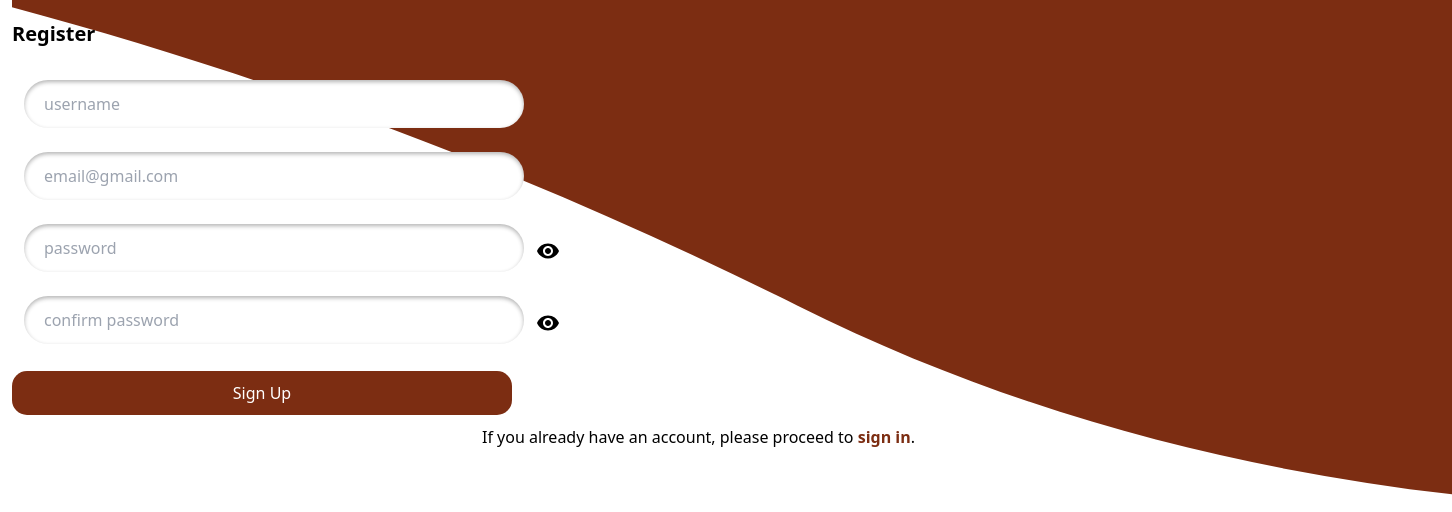
Test: Signup page › can render success message if receive success response from backend
The width and height of the screenshot is (1452, 512).
Note: type in valid data and click submit button
Type "ji" into the field with placeholder "username".
click(274, 104); type("ji")  # box [24,80,524,128]
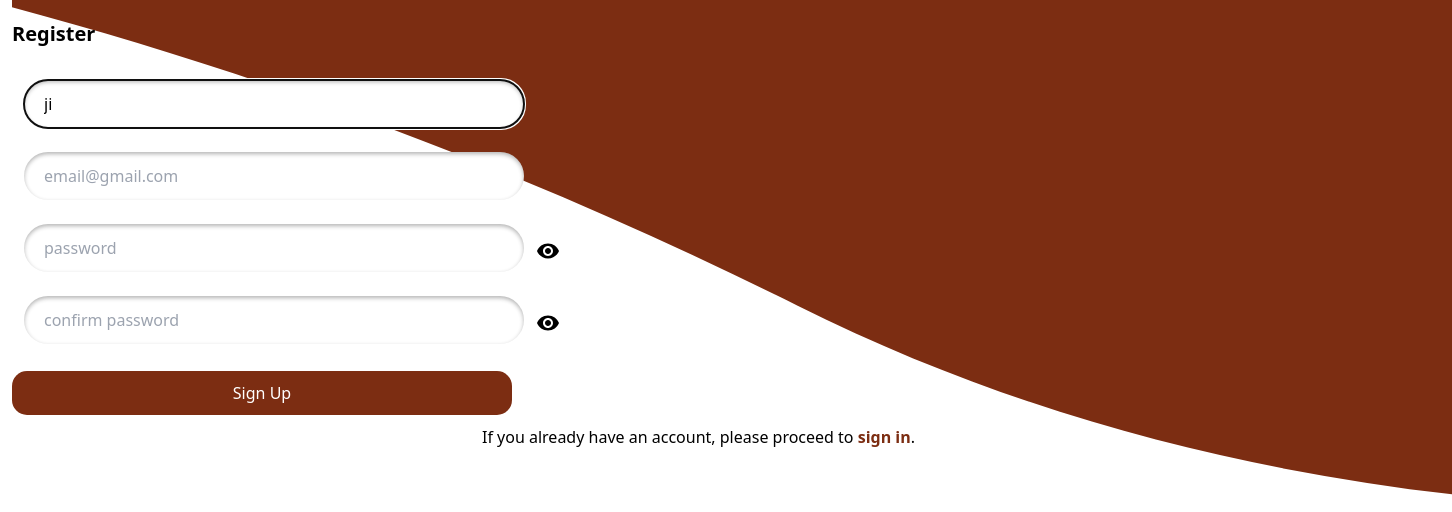
Type "ji@gmail.com" into the field with placeholder "email@gmail.com".
click(274, 176); type("ji@gmail.com")  # box [24,152,524,200]
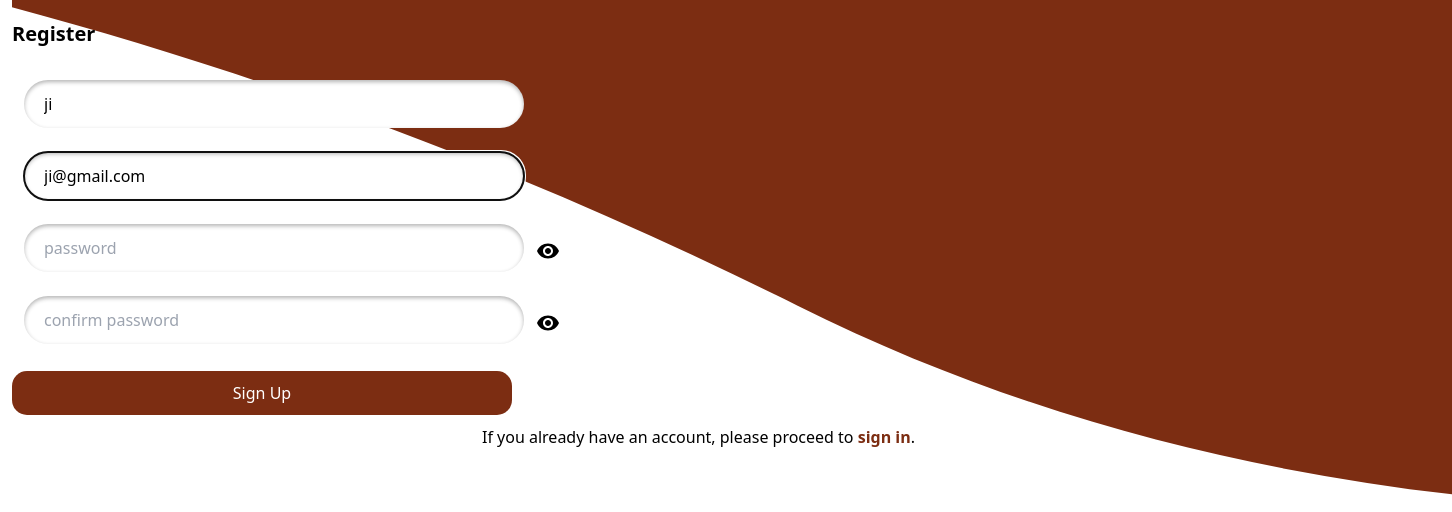
Type "123456aB" into the password field with placeholder "password".
click(274, 248); type("123456aB")  # box [24,224,524,272]
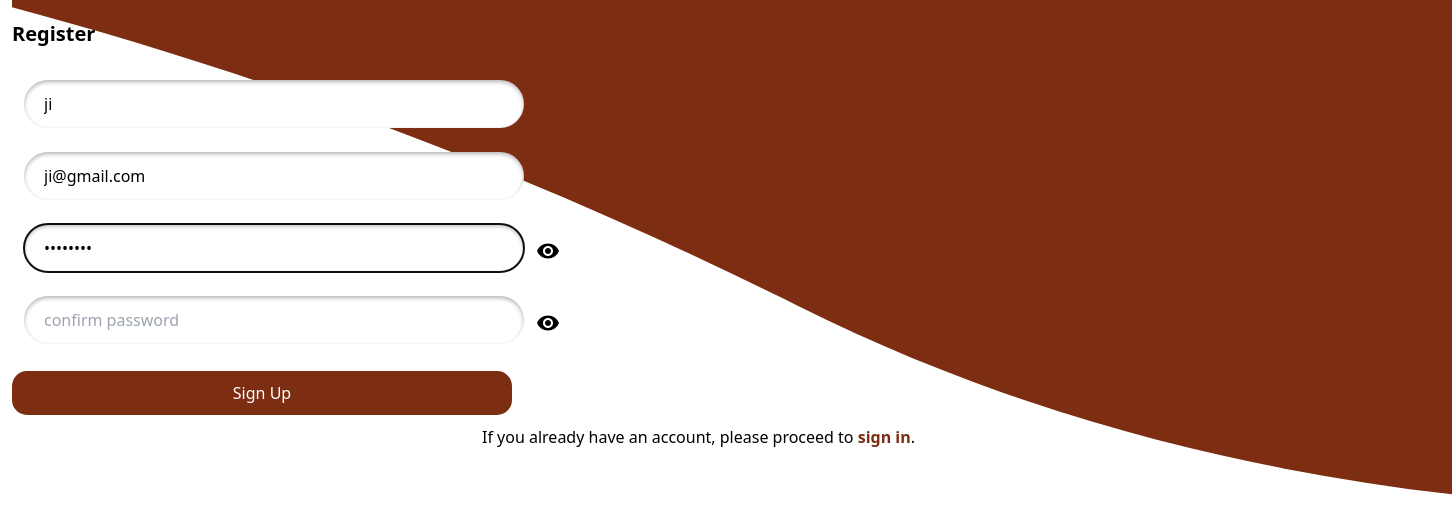
Type "123456aB" into the password field with placeholder "confirm password".
click(274, 320); type("123456aB")  # box [24,296,524,344]
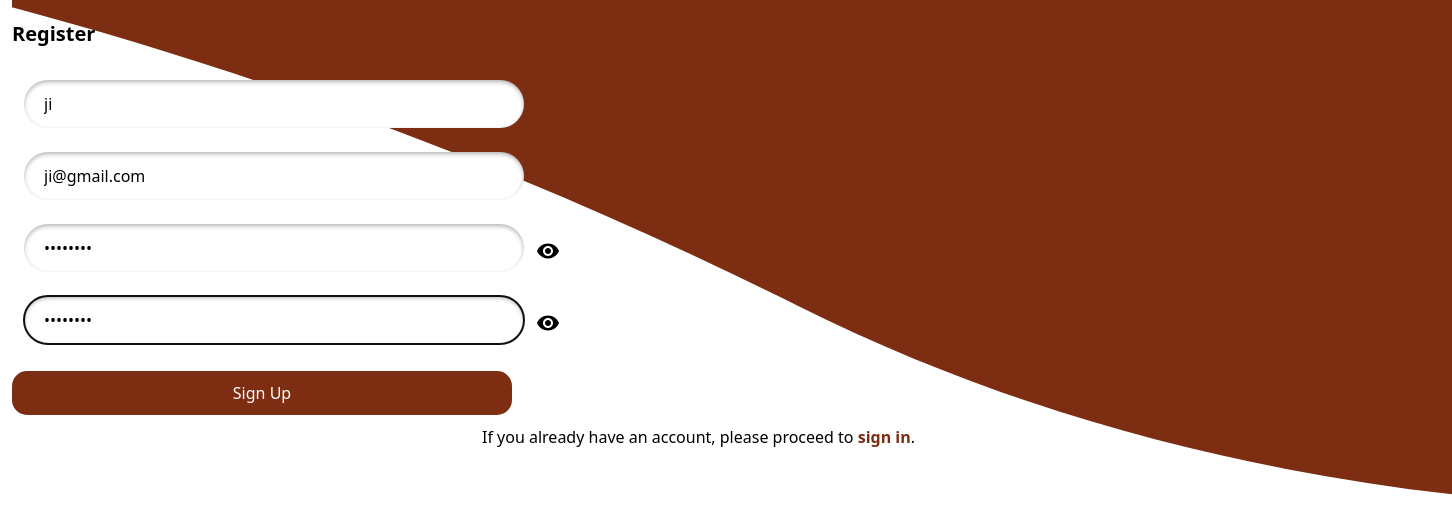
Click the button "Sign Up".
click(262, 393)  # box [12,371,512,415]
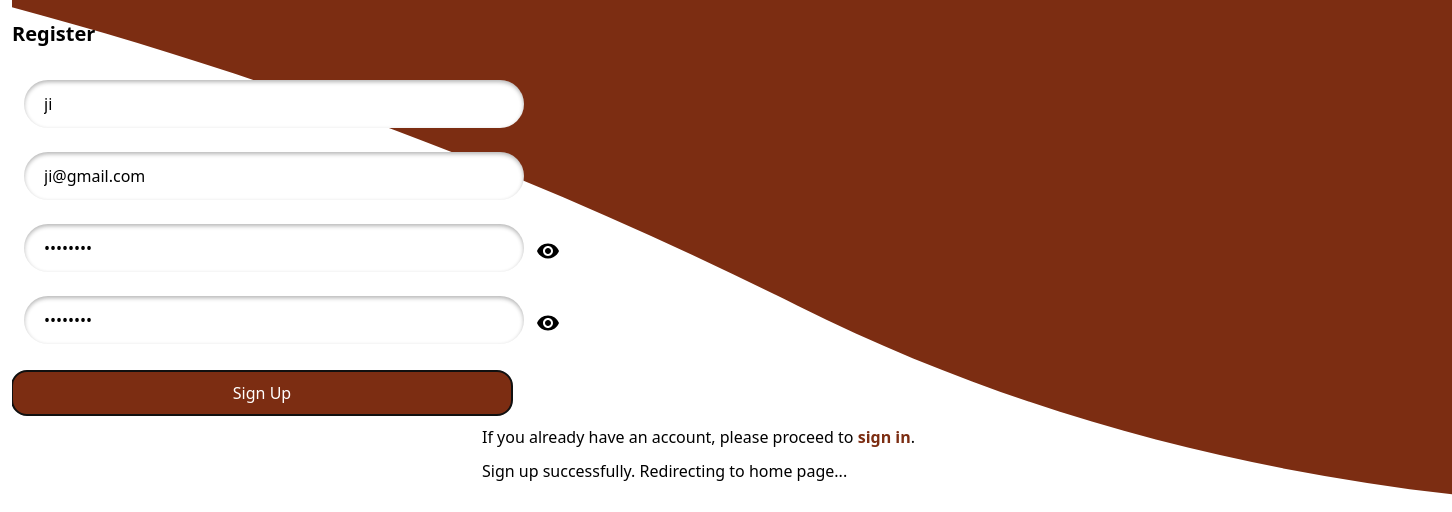
Result: the text "Sign up successfully. Redirecting to home page..." is shown at [482,460,847,482]
